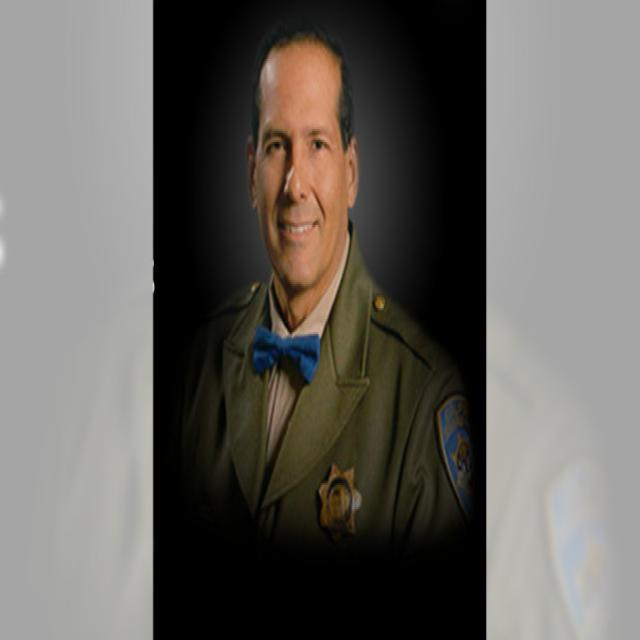human: (173, 21, 481, 564)
